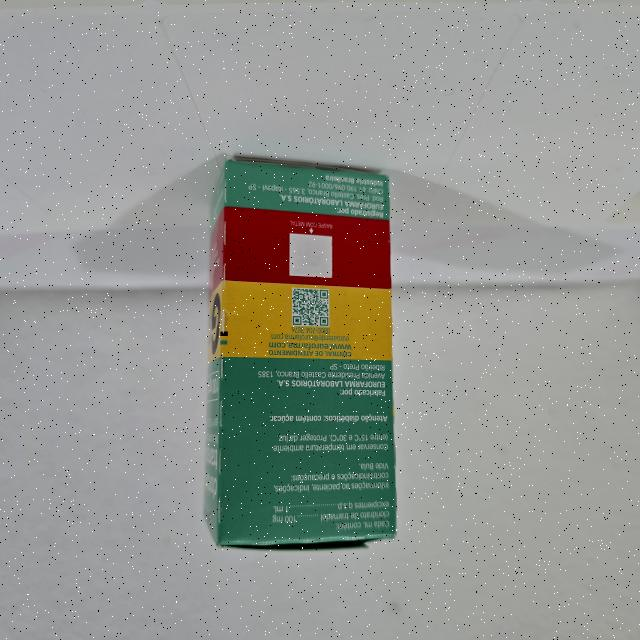tramadol: (198, 154, 402, 556)
